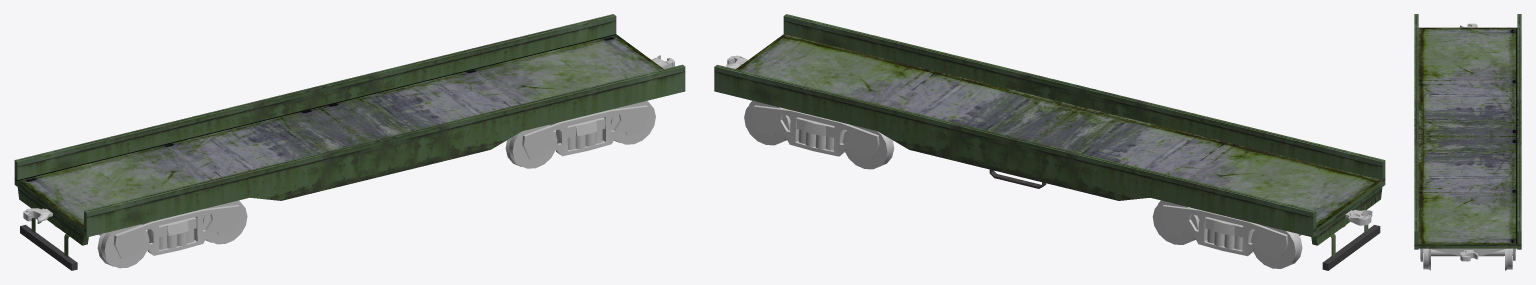
Rendered from TrainFlatcar07.FBX.
3 views of the same model, side by side, from view 1: azimuth 30°, elevation 25°; view 2: azimuth 150°, elevation 25°; view 3: azimuth 270°, elevation 25° (orthographic). The views are drawn at different scales.
Visible parts, largest first — view 1: TrainFlatcar07, TrainFlatcar0Wheels, TrainFlatcar0Detail; view 2: TrainFlatcar07, TrainFlatcar0Wheels, TrainFlatcar0Detail; view 3: TrainFlatcar07, TrainFlatcar0Wheels, TrainFlatcar0Detail.
Part boxes in pixels (left/top/right/bottom): TrainFlatcar07: left=14, top=14, right=685, bottom=270; TrainFlatcar0Wheels: left=54, top=100, right=655, bottom=268; TrainFlatcar0Detail: left=23, top=55, right=674, bottom=223; TrainFlatcar07: left=714, top=14, right=1385, bottom=270; TrainFlatcar0Wheels: left=744, top=100, right=1345, bottom=268; TrainFlatcar0Detail: left=726, top=55, right=1372, bottom=225; TrainFlatcar07: left=1414, top=14, right=1521, bottom=249; TrainFlatcar0Wheels: left=1420, top=248, right=1515, bottom=270; TrainFlatcar0Detail: left=1429, top=23, right=1506, bottom=261.
Bounding box in the file's own units: 809 × 87.44 × 157.
